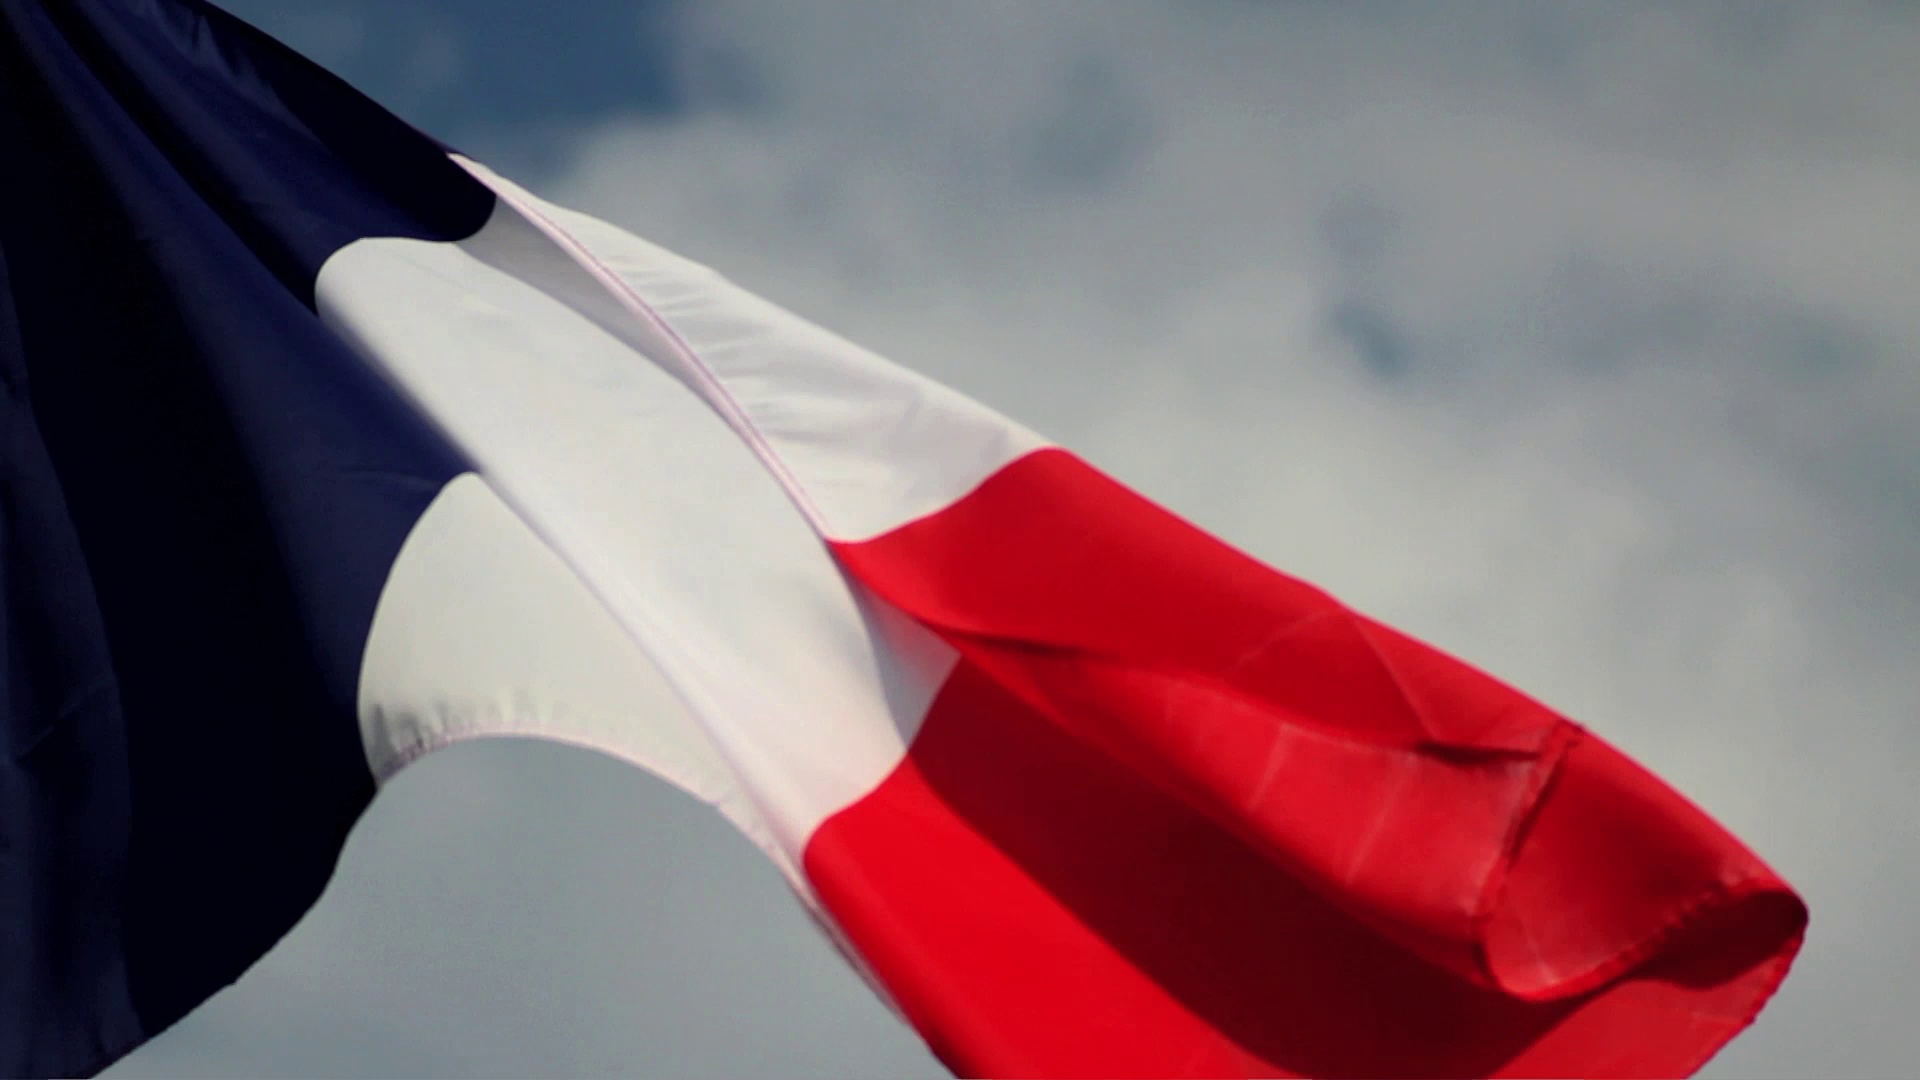French Flag: (1, 1, 1807, 1080)
